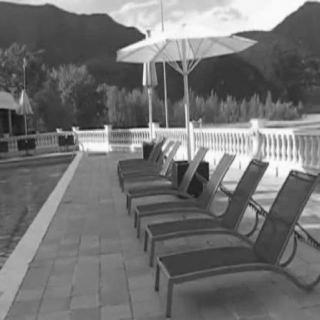other: (238, 127, 296, 157)
